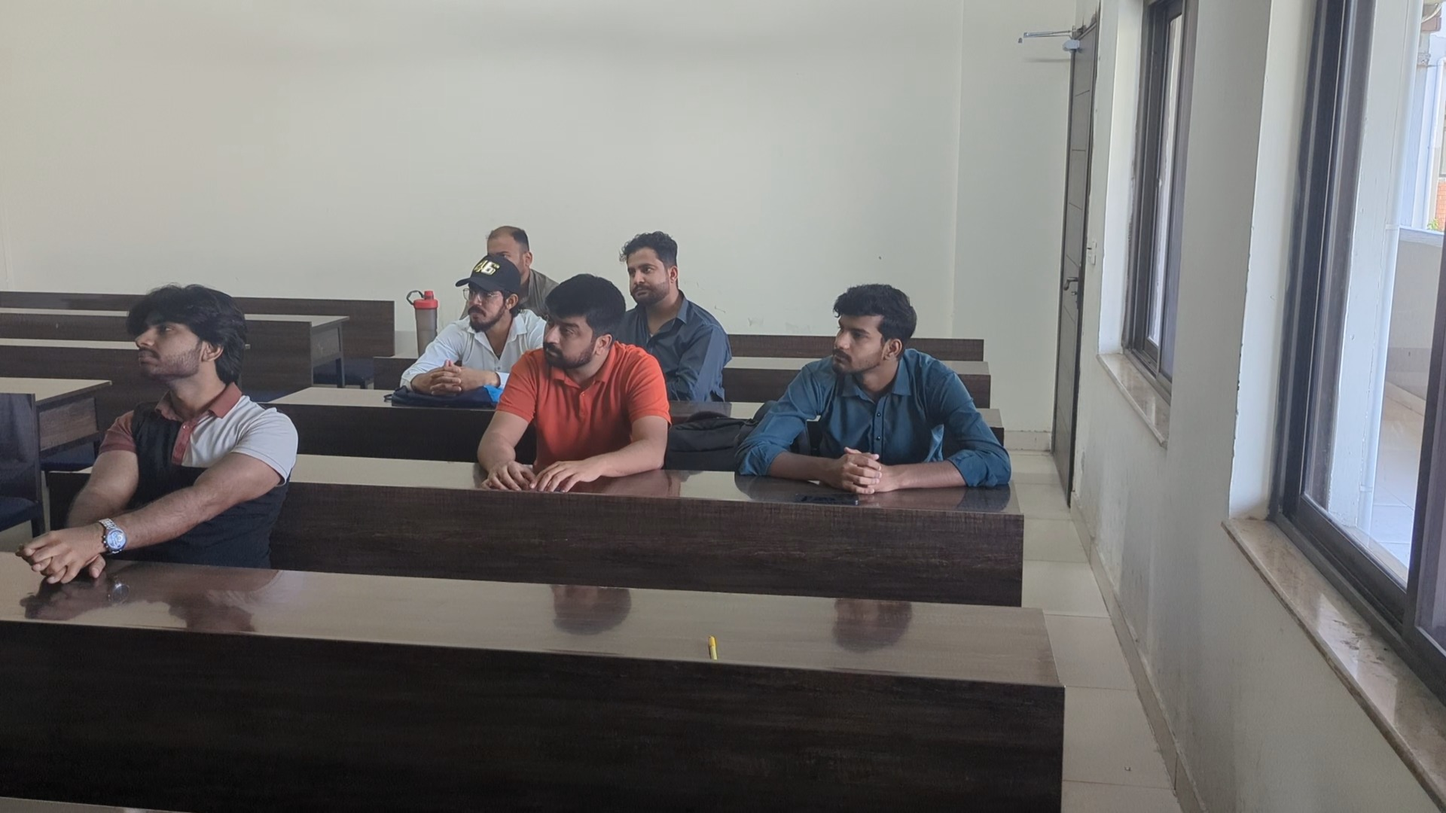look_forward: (24, 288, 294, 555), (739, 286, 1003, 485), (491, 268, 660, 479), (600, 231, 735, 357), (435, 259, 530, 395), (478, 222, 537, 274)
